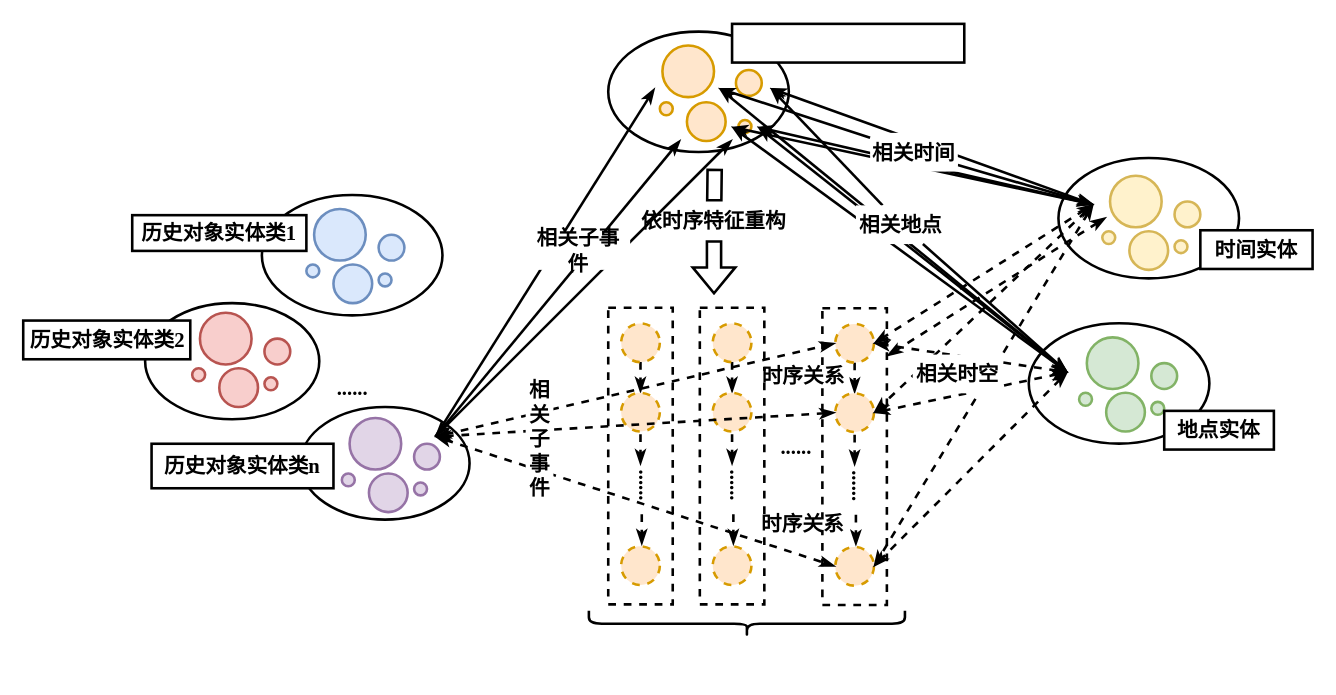
This 1336x695 diagram has some shape labels left out. Each missing label, with the centre of its shape:
"子事件实体（时空知识）" belongs at point (847, 42).
"时空知识链表1-n" belongs at point (746, 623).
